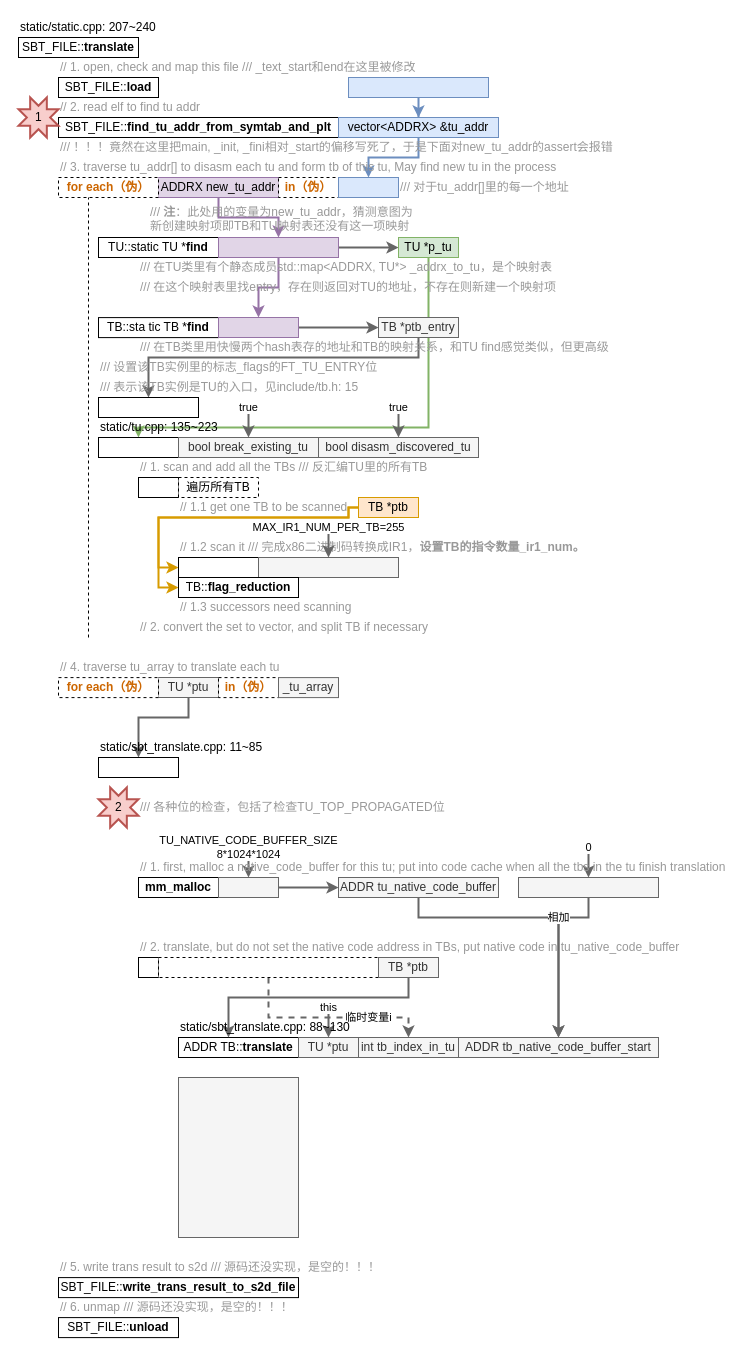
This 755x1355 diagram has some shape labels left out. The shapes that lost their labels are listed below. From the top down, each one's centre as x and y in pixels, then its label:
the point at 418,87: vector<ADDRX> tu_addr
the point at 368,187: tu_addr
the point at 278,247: const ADDRX entry
the point at 258,327: ADDRX pc
the point at 148,407: TB:: set_tu_entry
the point at 138,447: TU:: disasm
the point at 158,487: while
the point at 218,567: TB:: disasm
the point at 328,567: const int max_ir1_inst
the point at 138,767: TU:: translate
the point at 248,887: int size
the point at 588,887: int tu_native_code_size
the point at 148,967: for
the point at 268,967: 对于该TU里的每一个TB，其指针记作
the point at 238,1157: TODO
